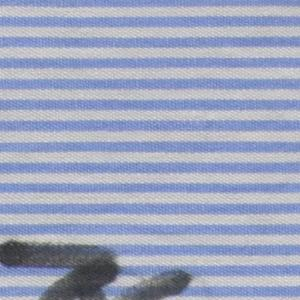Stain: (1, 236, 199, 300)
